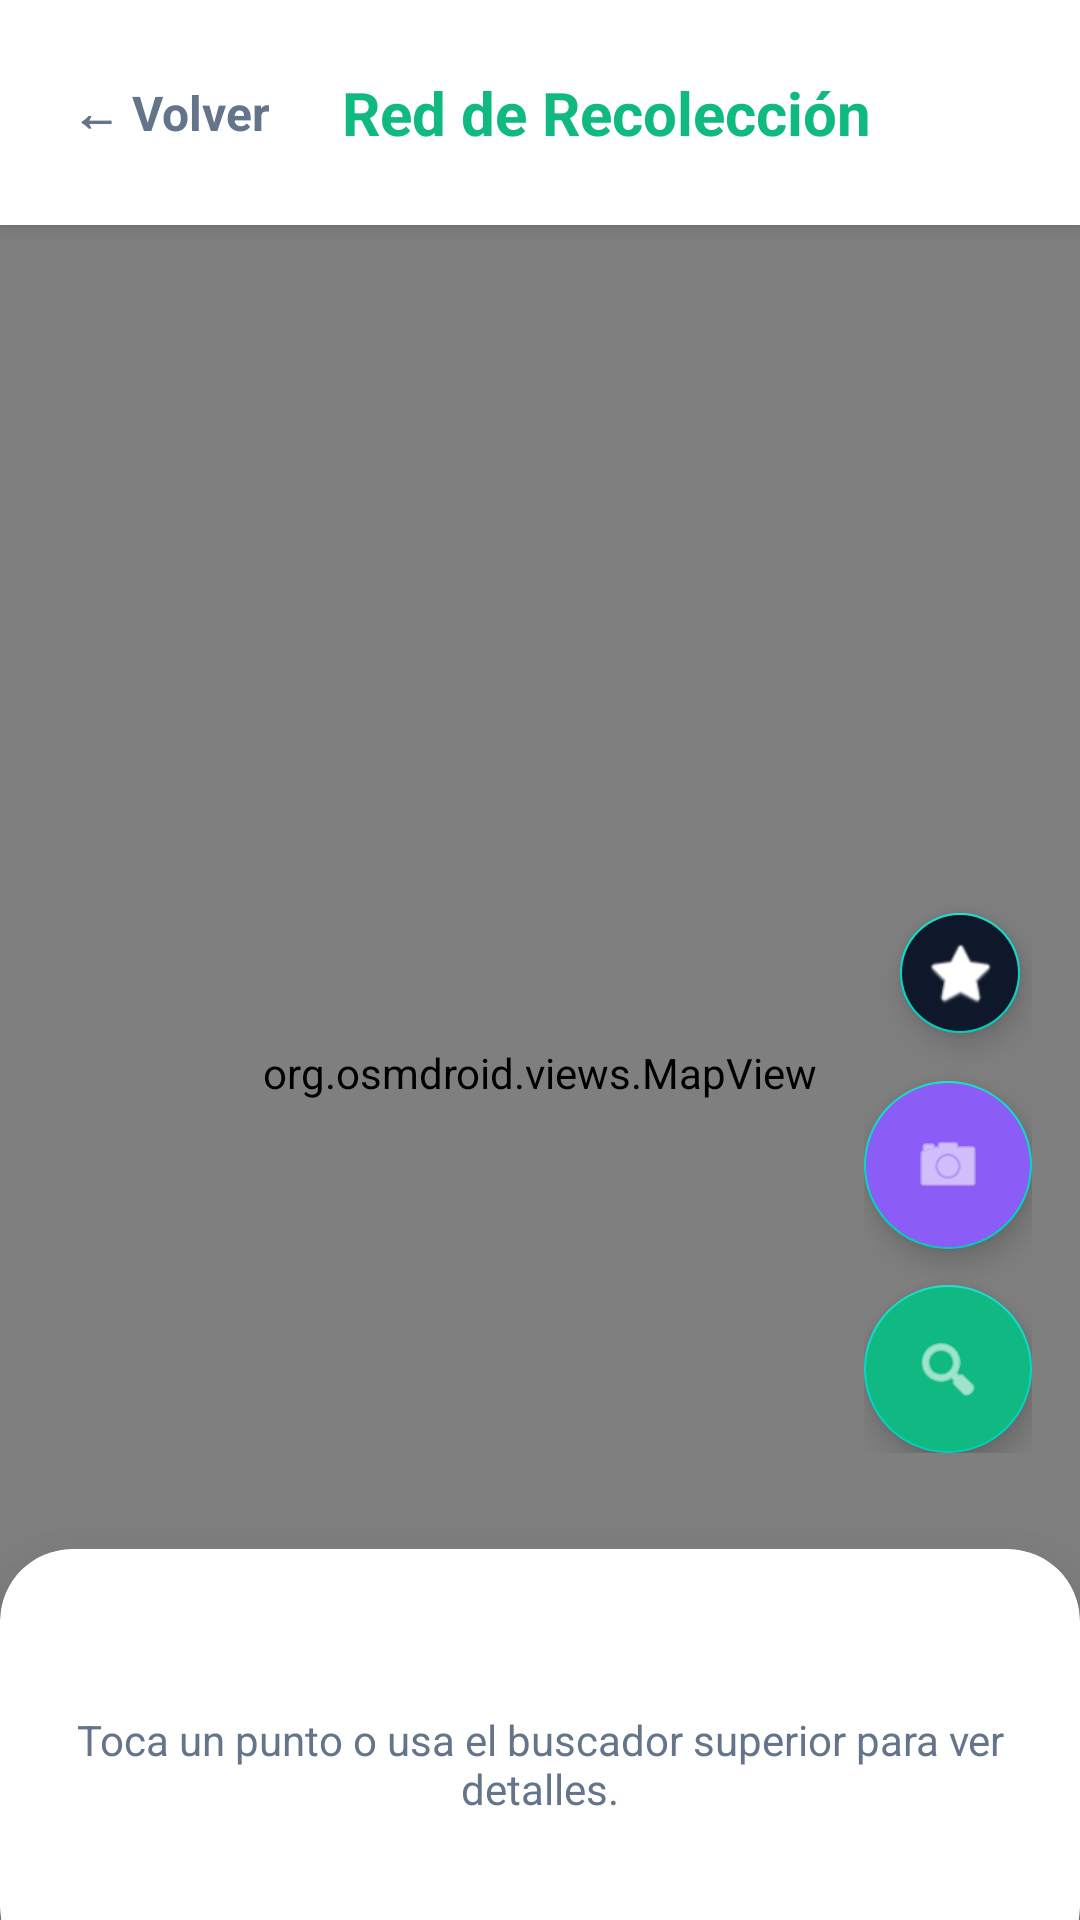

Screen size 1080px×1920px. Icon name, then its center in pixels as (x=x, y=y):
camera: (x=948, y=1165)
search: (x=948, y=1369)
star: (x=960, y=973)
